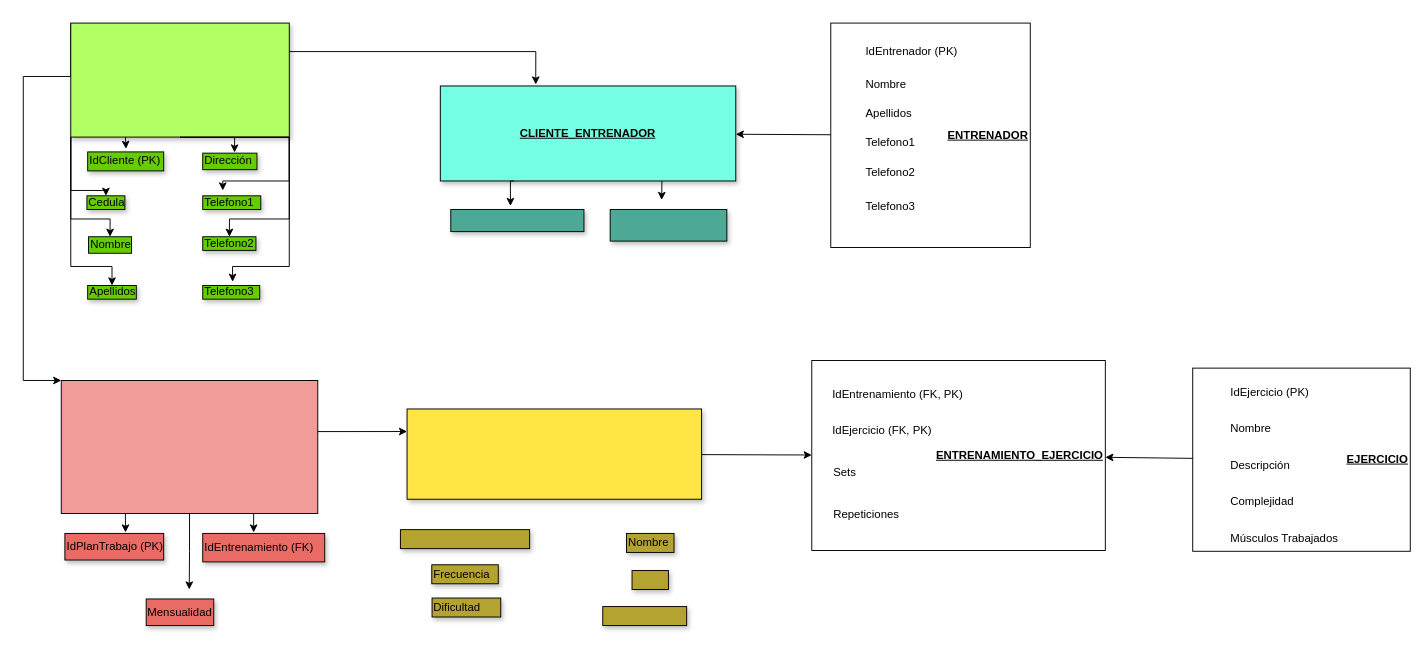
The diagram is 1427 pixels wide and 650 high, and some of its shapes have lost their labels. Each missing label, with the centre of its shape:
"CLIENTE" goes at [180,81].
"Costo" goes at [650,581].
"ENTRENAMIENTO" goes at [554,455].
"IdCliente (FK, PK)" goes at [518,221].
"IdEntrenador (FK, PK)" goes at [669,226].
"IdEntrenamiento (PK)" goes at [465,540].
"PLAN_TRABAJO" goes at [189,446].
"PlanEjercicios" goes at [645,617].
